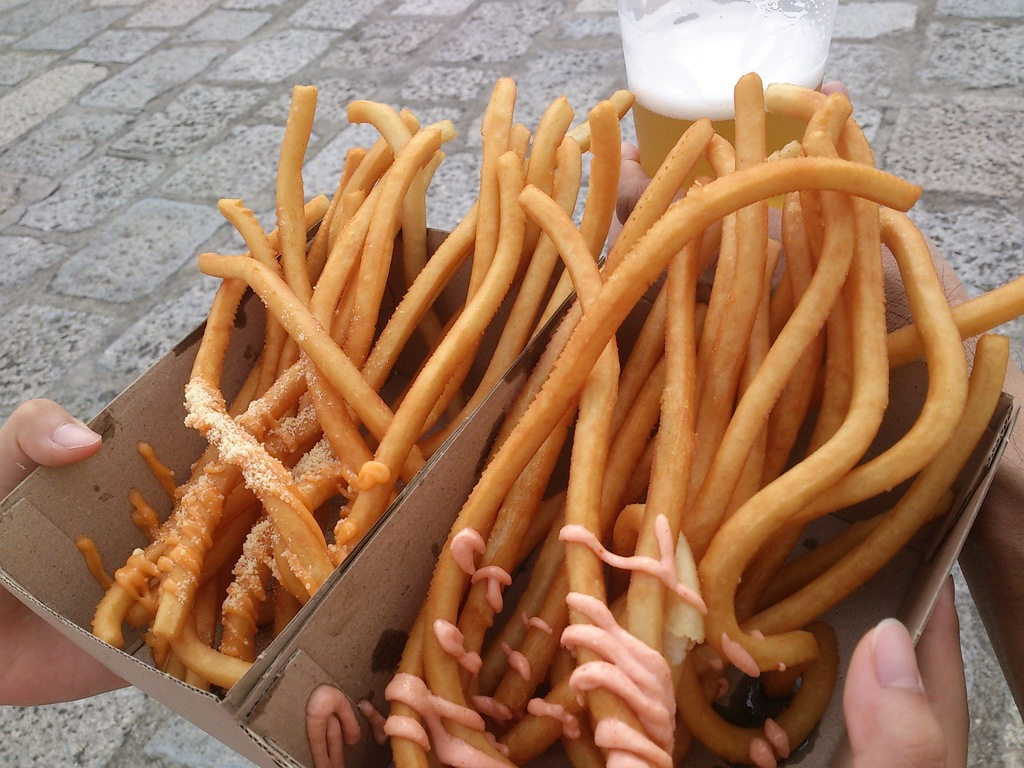French fries: (158, 50, 933, 746)
